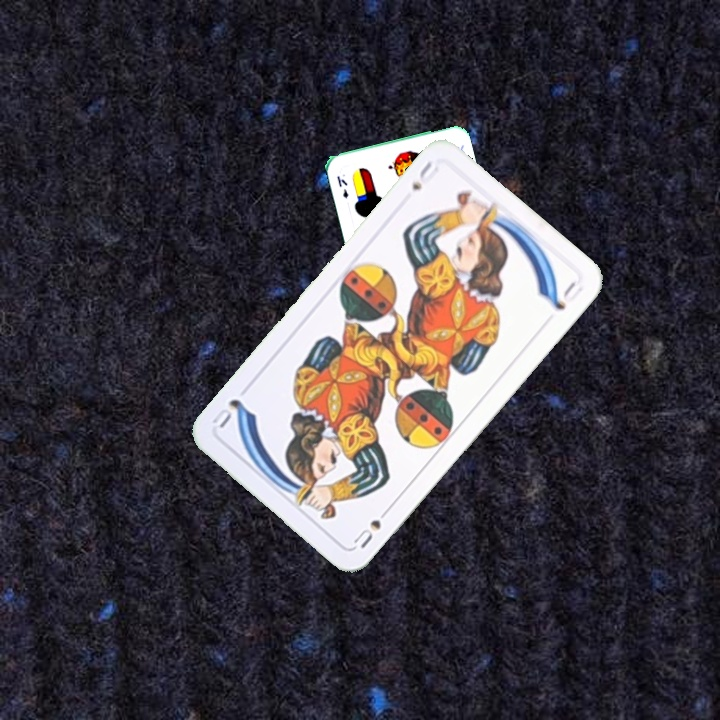EK: (333, 172, 351, 201)
SU: (349, 501, 395, 551), (407, 157, 442, 194)
